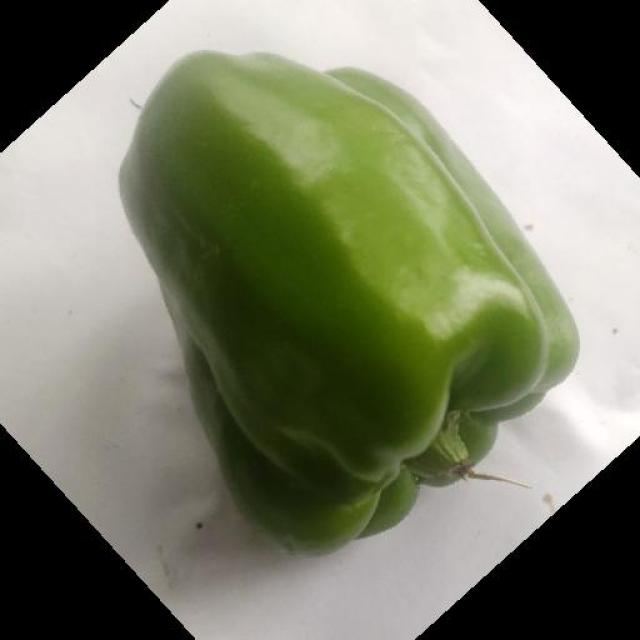Fresh_Capsicum: (149, 102, 532, 430)
